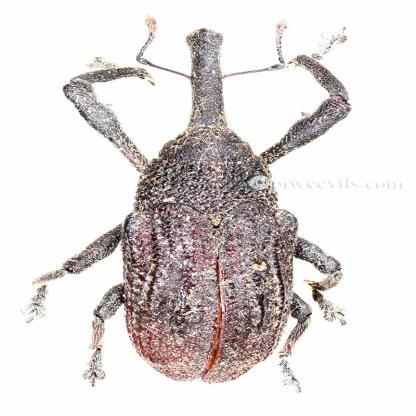rice-bug: (29, 13, 360, 395)
